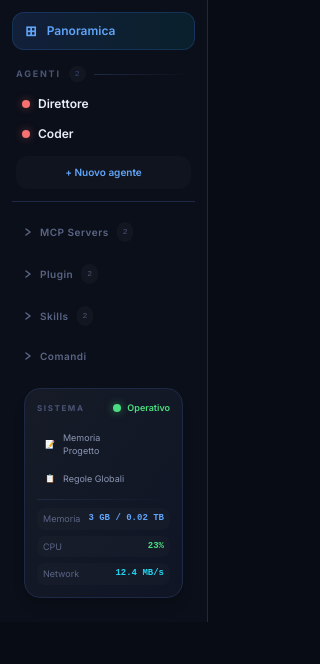
Test case: Sidebar › mostra "Nessun comando trovato" quando comandi vuoti
Click the button "Comandi". click: point(104, 356)
box: [12,340,195,372]
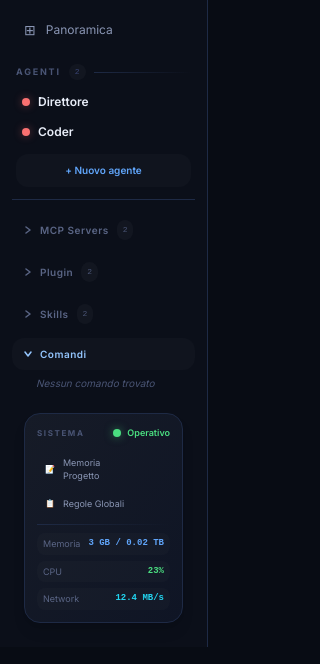
Check: the text "Nessun comando trovato" is shown, box [36,377,154,389]
